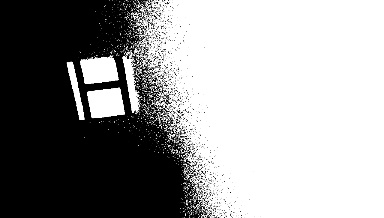H: (70, 53, 133, 121), (137, 52, 140, 58)
